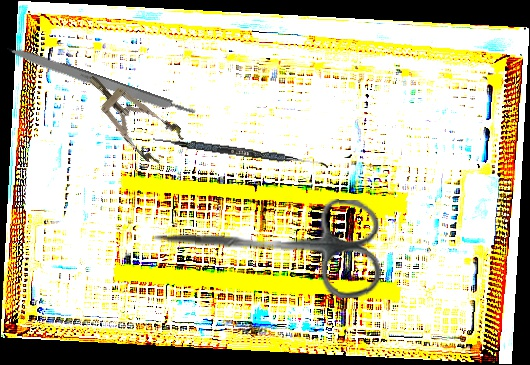Iris Scissors: (150, 193, 384, 299)
Scalpel Handle: (4, 43, 197, 122)
Spatula Surgical: (152, 136, 329, 168)
Speculum: (75, 60, 188, 169)
